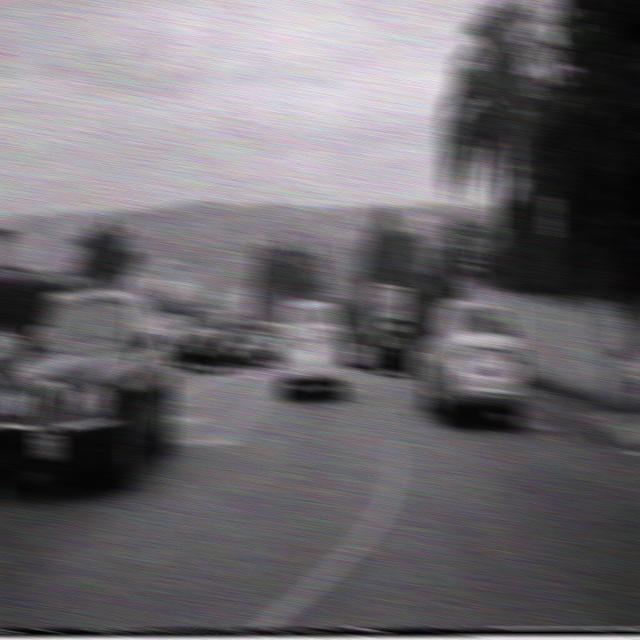speedLimit35: (457, 221, 486, 274)
